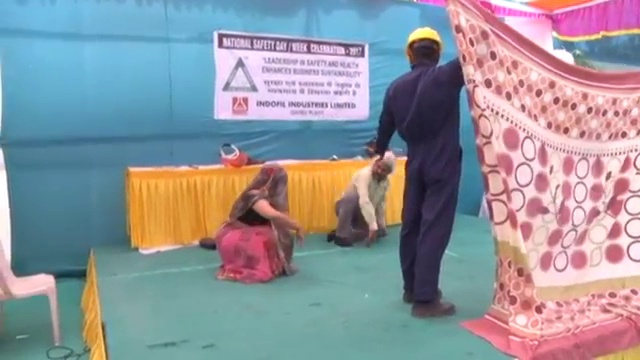helmet: (406, 26, 443, 50)
helmet_off: (370, 149, 396, 184), (260, 159, 285, 186)
helmet_on: (406, 25, 444, 71)
person: (375, 28, 469, 318), (213, 160, 303, 283), (331, 149, 396, 245)
